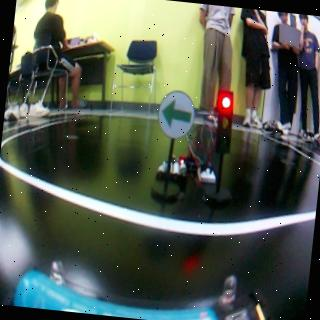left: (156, 90, 190, 140)
red: (208, 90, 234, 209)
